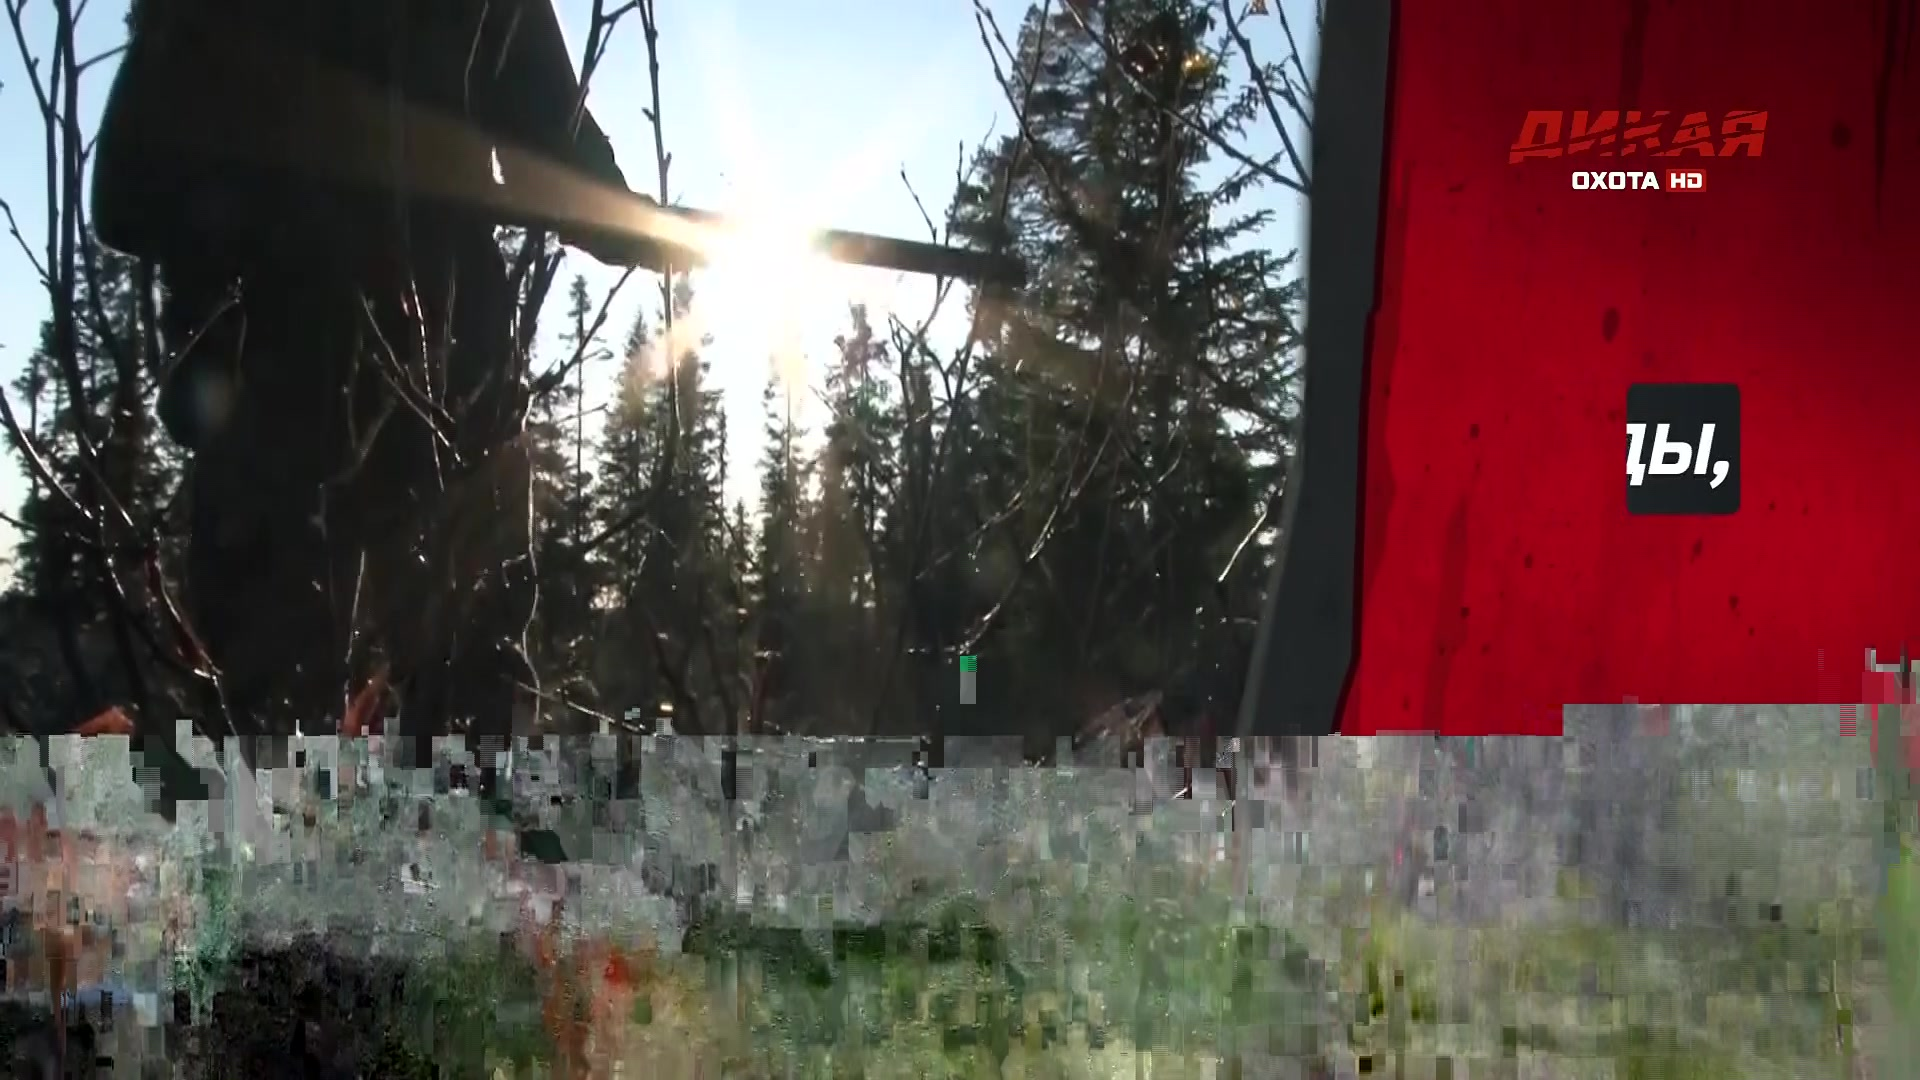Dikaya_Ohota_HD: (1502, 104, 1776, 196)
